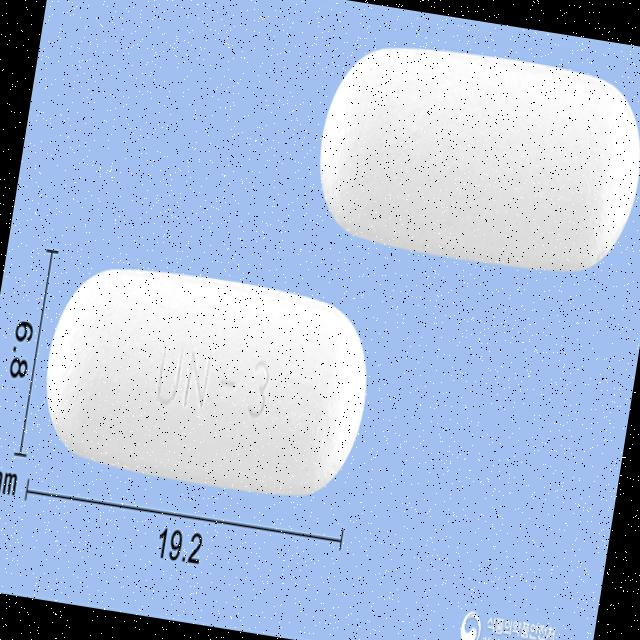Unasyn Tab: (32, 258, 380, 508), (308, 32, 640, 283)
